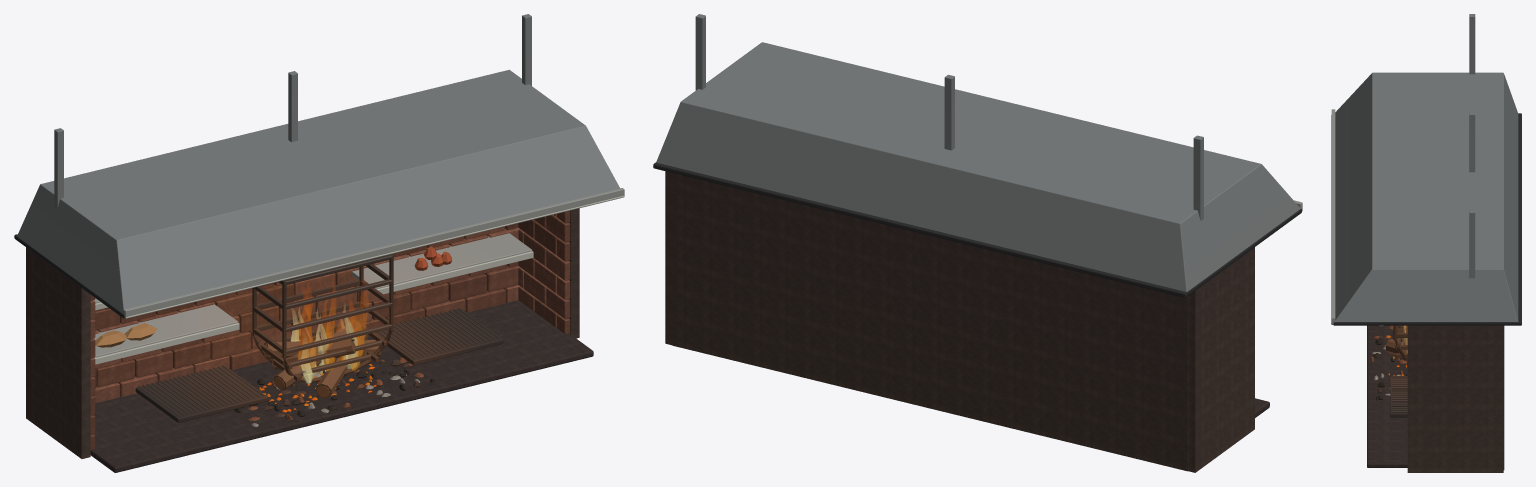
File: hearth.glb
3 views of the same model, side by side, from view 1: azimuth 30°, elevation 25°; view 2: azimuth 150°, elevation 25°; view 3: azimuth 270°, elevation 25° (orthographic). The views are drawn at different scales.
Parts seen in each view (by area): view 1: HearthIron, HearthMasonry, HearthEmbers; view 2: HearthMasonry, HearthIron; view 3: HearthIron, HearthMasonry.
Boxes of the visible parts, bbox=[...] form: HearthIron: bbox=[14, 14, 624, 422]; HearthMasonry: bbox=[26, 208, 593, 472]; HearthEmbers: bbox=[259, 278, 376, 412]; HearthMasonry: bbox=[665, 171, 1269, 472]; HearthIron: bbox=[653, 14, 1302, 297]; HearthIron: bbox=[1331, 14, 1521, 417]; HearthMasonry: bbox=[1367, 325, 1504, 472].
Bounding box in the file's own units: 5.99 × 3.41 × 2.31.
Materials: 3 (1 with a texture image).
